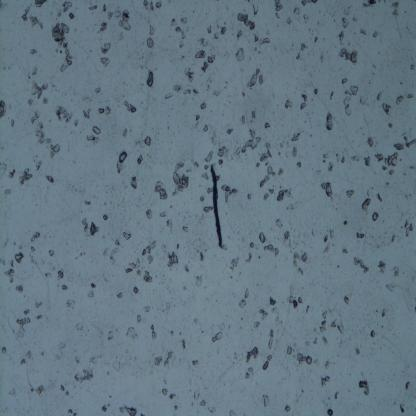Background material: (51, 23, 73, 72), (170, 160, 190, 196), (342, 84, 358, 118), (242, 128, 260, 152), (236, 12, 257, 32), (114, 9, 133, 31), (36, 122, 52, 146), (248, 66, 264, 89), (101, 246, 120, 265), (220, 184, 239, 203), (339, 48, 359, 66), (294, 254, 311, 275), (393, 137, 416, 152), (319, 180, 336, 200), (142, 240, 156, 264), (322, 228, 336, 252), (15, 317, 31, 338), (352, 256, 370, 274), (125, 257, 143, 275), (72, 368, 95, 382), (56, 106, 73, 124), (296, 349, 314, 366), (317, 309, 329, 334), (51, 341, 66, 361), (18, 167, 33, 187), (152, 183, 168, 201), (324, 111, 337, 132), (86, 125, 101, 143), (262, 243, 281, 257), (385, 152, 401, 168), (29, 14, 44, 31), (118, 403, 139, 415), (288, 294, 304, 309), (252, 35, 272, 47), (143, 0, 163, 12), (175, 26, 187, 46), (330, 318, 344, 335), (166, 252, 179, 270), (390, 1, 403, 19), (358, 379, 371, 397), (261, 142, 272, 163), (238, 288, 250, 307), (279, 188, 292, 205), (245, 347, 258, 364), (216, 144, 226, 166), (30, 82, 42, 100), (272, 1, 284, 19), (258, 175, 273, 189), (402, 219, 414, 236), (163, 351, 174, 369), (321, 372, 332, 390), (20, 350, 32, 366), (22, 4, 32, 23), (49, 144, 62, 158), (283, 230, 292, 250), (126, 327, 138, 342), (88, 281, 98, 299), (142, 269, 154, 284), (182, 87, 200, 97), (14, 250, 25, 266), (299, 93, 309, 110), (262, 353, 272, 370), (212, 330, 225, 343), (88, 222, 100, 236), (42, 258, 56, 270), (0, 96, 7, 120), (31, 64, 43, 78), (58, 384, 70, 398), (124, 100, 136, 114), (267, 294, 279, 308), (334, 151, 346, 165), (384, 280, 396, 294), (4, 269, 15, 284), (143, 134, 154, 149), (130, 174, 139, 192), (296, 44, 306, 60), (274, 215, 284, 231), (65, 297, 77, 310), (110, 359, 122, 372), (193, 49, 207, 60), (378, 261, 389, 275), (184, 66, 193, 83), (235, 48, 245, 63), (394, 92, 404, 107), (362, 198, 372, 213), (146, 69, 154, 87), (205, 148, 214, 164), (354, 229, 366, 241), (120, 230, 133, 241), (358, 26, 369, 39), (266, 164, 277, 177), (82, 107, 92, 121), (144, 208, 154, 222), (259, 308, 269, 322), (230, 256, 240, 270), (262, 393, 271, 408), (349, 156, 364, 165), (290, 143, 299, 158), (200, 61, 209, 76), (366, 134, 375, 149), (289, 131, 301, 142), (268, 328, 274, 350), (165, 220, 175, 233), (192, 388, 202, 401), (81, 215, 88, 233), (346, 187, 355, 201), (142, 302, 153, 313), (152, 356, 163, 367), (100, 57, 111, 68), (118, 152, 129, 163), (284, 98, 294, 110), (136, 154, 146, 166), (106, 330, 116, 342), (57, 266, 65, 281), (339, 30, 347, 45), (164, 90, 174, 102), (207, 54, 217, 66), (172, 82, 182, 94), (252, 319, 262, 331), (150, 323, 157, 340), (327, 160, 336, 173), (363, 155, 372, 168), (331, 388, 340, 401), (0, 160, 7, 176), (35, 0, 49, 8), (97, 106, 111, 114), (203, 203, 214, 213), (192, 315, 203, 325), (382, 104, 392, 115), (200, 171, 210, 182), (62, 2, 73, 12), (321, 336, 332, 346), (161, 388, 170, 400), (101, 212, 110, 224), (194, 273, 203, 285), (243, 251, 252, 263), (189, 358, 201, 367), (363, 1, 376, 9), (277, 165, 285, 178), (392, 266, 400, 279), (380, 307, 388, 320), (15, 284, 25, 294), (30, 113, 40, 123), (31, 232, 41, 242), (88, 354, 98, 364), (76, 320, 86, 330), (45, 174, 55, 184), (158, 210, 168, 220), (101, 44, 111, 54), (8, 169, 17, 180), (371, 211, 380, 222), (359, 97, 368, 108), (258, 231, 265, 245), (180, 336, 187, 350), (100, 21, 108, 33), (344, 4, 352, 16), (342, 18, 350, 30), (250, 3, 258, 15), (146, 36, 154, 48), (164, 302, 172, 314), (341, 244, 349, 256), (312, 335, 320, 347), (245, 366, 253, 378), (197, 250, 205, 262), (183, 262, 190, 275), (236, 28, 243, 41), (149, 23, 156, 36), (233, 147, 242, 157), (3, 186, 12, 196), (68, 407, 78, 416), (182, 226, 192, 235), (36, 161, 44, 172), (61, 282, 69, 293), (212, 89, 223, 97), (87, 5, 99, 12), (375, 90, 382, 102), (35, 298, 42, 310), (350, 13, 359, 22), (72, 354, 81, 363), (225, 126, 234, 135), (36, 385, 44, 395), (116, 291, 124, 301), (320, 154, 328, 164), (369, 329, 377, 339), (47, 247, 55, 257), (135, 314, 143, 324), (68, 12, 76, 22), (171, 18, 179, 28), (220, 25, 228, 35), (353, 346, 361, 356), (198, 102, 208, 110), (248, 240, 256, 250), (400, 401, 406, 414), (314, 34, 320, 47), (0, 345, 7, 356), (101, 403, 108, 414), (240, 115, 247, 126), (113, 238, 122, 246), (262, 190, 268, 202), (326, 408, 335, 416), (371, 29, 379, 38), (168, 392, 177, 400), (294, 6, 302, 15), (300, 2, 318, 6), (318, 51, 324, 63), (376, 153, 383, 163), (206, 25, 213, 35), (377, 192, 383, 203), (342, 217, 348, 228), (344, 296, 350, 307), (404, 381, 410, 392), (30, 254, 36, 265), (22, 308, 30, 316), (406, 92, 414, 100), (44, 272, 52, 280), (132, 286, 140, 294), (312, 88, 320, 96), (0, 257, 7, 266), (42, 96, 49, 105), (287, 346, 294, 355), (10, 118, 16, 128), (252, 109, 258, 119), (103, 4, 108, 16), (329, 91, 335, 101), (123, 128, 129, 138), (28, 382, 34, 392), (324, 361, 330, 371), (247, 191, 252, 203), (203, 124, 209, 134), (200, 194, 206, 204), (200, 400, 207, 408), (408, 164, 416, 171), (386, 121, 394, 128), (94, 86, 101, 94), (84, 199, 92, 206), (194, 115, 202, 122), (340, 78, 348, 85), (42, 82, 49, 90), (284, 404, 291, 412), (211, 135, 216, 146), (302, 17, 308, 26), (9, 387, 15, 396), (304, 304, 310, 313), (388, 169, 394, 177), (296, 160, 302, 168), (36, 314, 44, 320), (30, 246, 36, 254), (265, 121, 271, 129), (173, 404, 179, 412), (28, 98, 34, 106), (56, 9, 61, 18), (390, 234, 395, 243), (207, 186, 212, 195), (108, 12, 113, 21), (255, 161, 261, 168), (240, 90, 246, 97), (366, 188, 370, 198), (31, 48, 36, 56), (206, 84, 211, 92), (410, 61, 414, 71), (214, 32, 219, 40), (170, 328, 174, 337), (39, 350, 45, 356), (180, 54, 186, 60), (270, 188, 275, 195), (381, 165, 388, 170), (229, 411, 236, 416), (182, 282, 186, 290), (288, 17, 292, 25), (0, 2, 5, 8), (265, 28, 270, 34), (140, 63, 144, 70), (106, 369, 110, 375), (200, 328, 204, 334), (224, 79, 228, 85), (78, 252, 82, 257), (280, 142, 284, 147), (108, 394, 112, 398), (386, 182, 390, 186), (107, 402, 110, 407), (278, 151, 281, 156), (141, 55, 144, 59), (13, 242, 16, 246), (224, 85, 227, 89), (164, 378, 166, 384), (75, 256, 78, 260), (89, 49, 92, 53), (414, 306, 416, 312), (97, 31, 100, 34), (115, 356, 117, 359)
Cotton: (209, 166, 224, 250)
